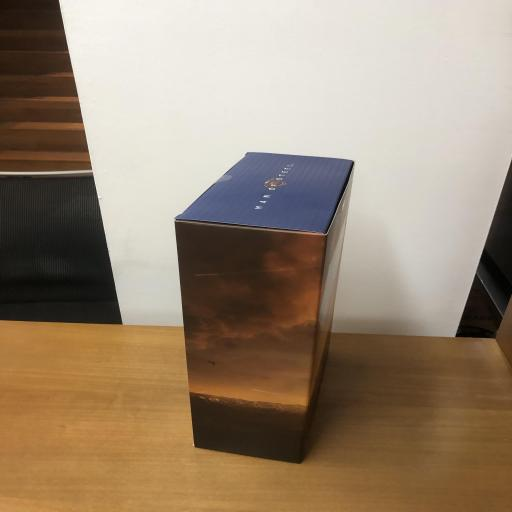superman: (177, 152, 356, 468)
